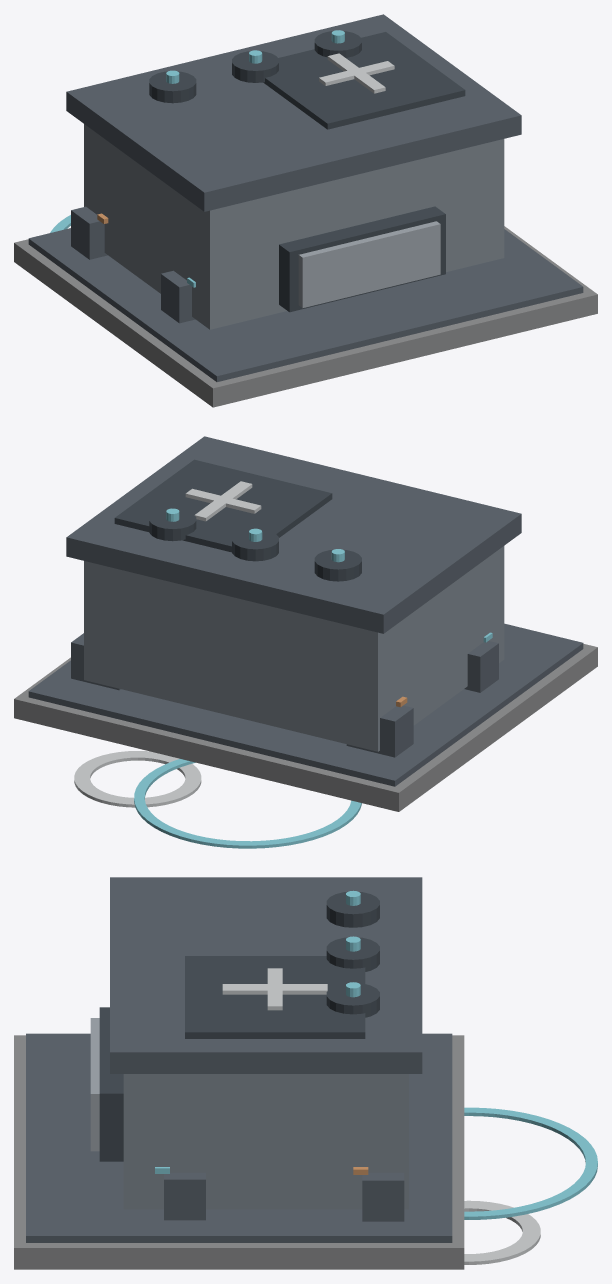
File: human_command_center.glb
3 renders of one model, top to bottom at view 1: azimuth 30°, elevation 25°; view 2: azimuth 150°, elevation 25°; view 3: azimuth 270°, elevation 25°, orthographic. The views are drawn at different scales.
Visible parts, largest first — view 1: command_roof, command_shell, foundation_top, foundation, landing_pad, main_door, main_entrance, utility_pod_2, utility_pod_0, roof_fan_-0.72, roof_fan_0.0, roof_fan_0.72 (+2 smaller); view 2: command_shell, command_roof, foundation_top, foundation, landing_pad, command_scan_ring, landing_ring, utility_pod_2, utility_pod_0, roof_fan_-0.72, roof_fan_0.0, roof_fan_0.72 (+3 smaller); view 3: command_roof, command_shell, foundation_top, foundation, landing_pad, command_scan_ring, main_entrance, utility_pod_3, utility_pod_1, landing_ring, roof_fan_-0.72, roof_fan_0.0 (+4 smaller).
Boxes of the visible parts, x1,y1,x2,y2 form: command_roof: [66, 14, 521, 211]; command_shell: [84, 124, 504, 329]; foundation_top: [28, 228, 583, 381]; foundation: [14, 226, 597, 407]; landing_pad: [263, 32, 465, 129]; main_door: [298, 221, 440, 307]; main_entrance: [279, 206, 445, 312]; utility_pod_2: [71, 206, 107, 259]; utility_pod_0: [161, 270, 195, 323]; roof_fan_-0.72: [149, 71, 196, 103]; roof_fan_0.0: [232, 51, 278, 82]; roof_fan_0.72: [314, 31, 361, 57]; command_shell: [84, 546, 504, 751]; command_roof: [66, 436, 521, 633]; foundation_top: [28, 623, 583, 786]; foundation: [14, 643, 597, 811]; landing_pad: [114, 459, 332, 552]; command_scan_ring: [134, 759, 361, 848]; landing_ring: [74, 751, 201, 807]; utility_pod_2: [346, 705, 413, 757]; utility_pod_0: [464, 641, 498, 692]; roof_fan_-0.72: [314, 549, 361, 581]; roof_fan_0.0: [232, 529, 278, 561]; roof_fan_0.72: [149, 509, 196, 541]; command_roof: [110, 877, 422, 1073]; command_shell: [123, 1074, 408, 1209]; foundation_top: [26, 1033, 452, 1242]; foundation: [14, 1035, 464, 1269]; landing_pad: [185, 956, 365, 1038]; command_scan_ring: [464, 1107, 597, 1219]; main_entrance: [99, 1007, 123, 1161]; utility_pod_3: [362, 1172, 404, 1221]; utility_pod_1: [164, 1172, 205, 1220]; landing_ring: [464, 1200, 540, 1264]; roof_fan_-0.72: [326, 891, 379, 927]; roof_fan_0.0: [326, 937, 379, 971].
Bounding box in the file's own units: 3.35 × 1.9 × 3.89.
